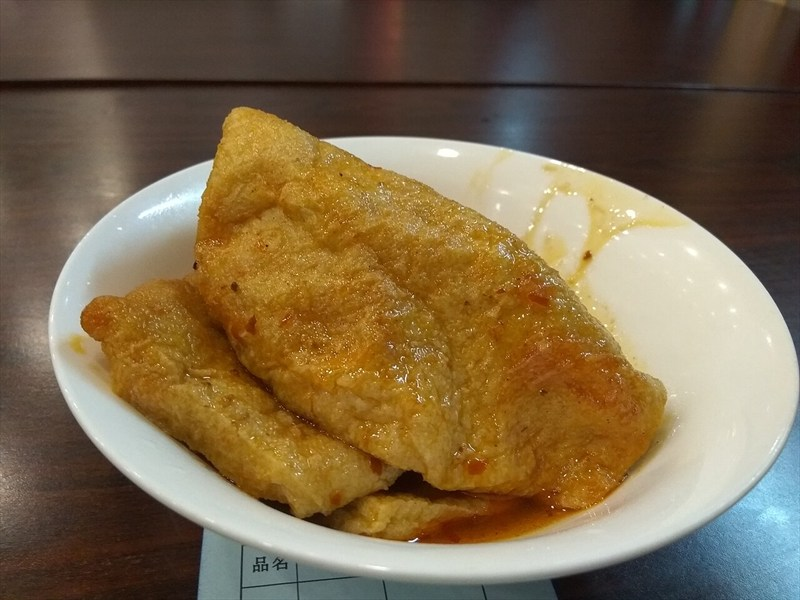Tahu Goreng: (62, 124, 768, 576)
